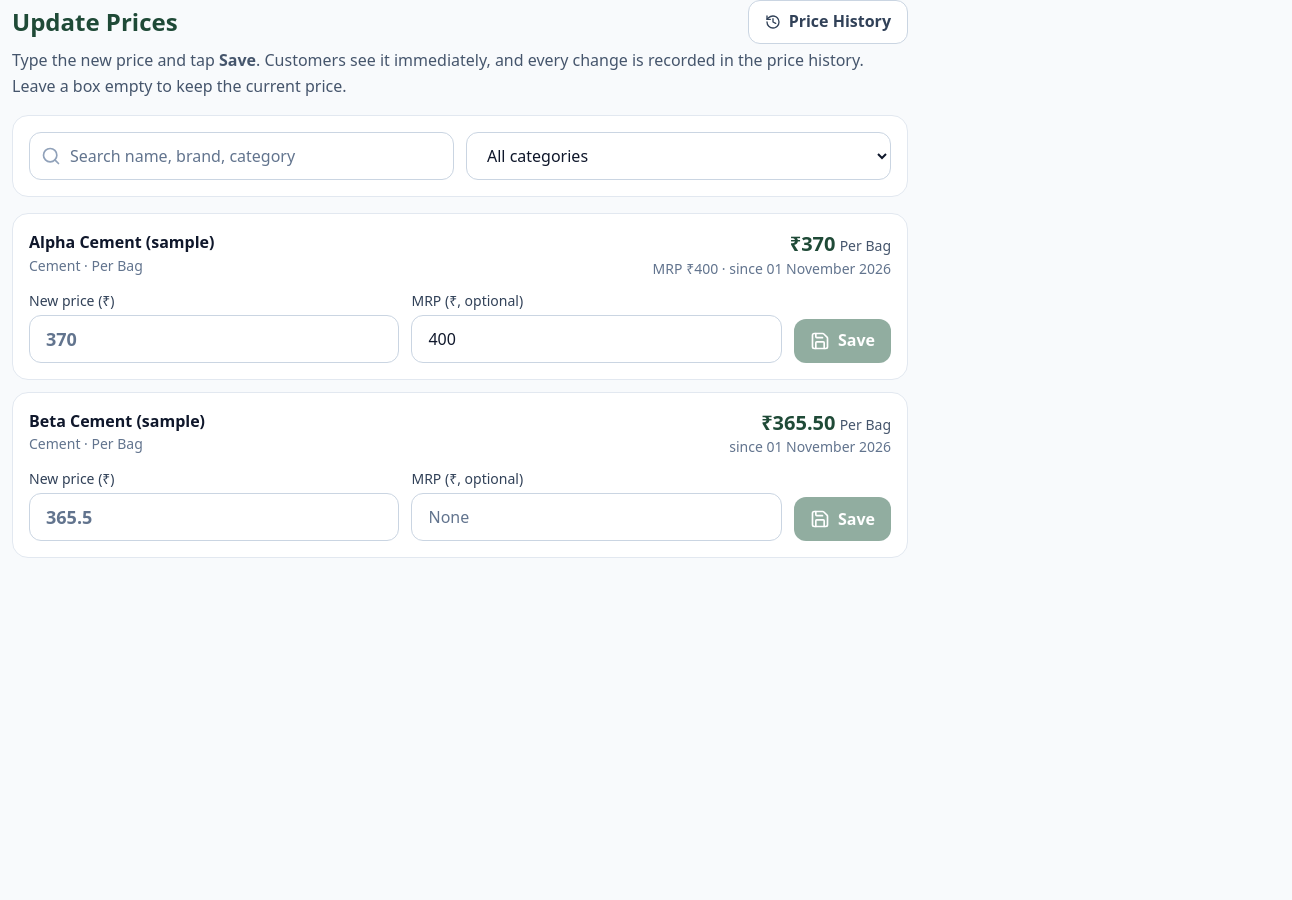
it: Update Prices page › saves a new price with the price that was on screen, and confirms
The width and height of the screenshot is (1292, 900).
Step 1. Type "380" into the field labelled "New price (₹)" below "Alpha Cement (sample)" → (214, 339), box [29,315,400,363]
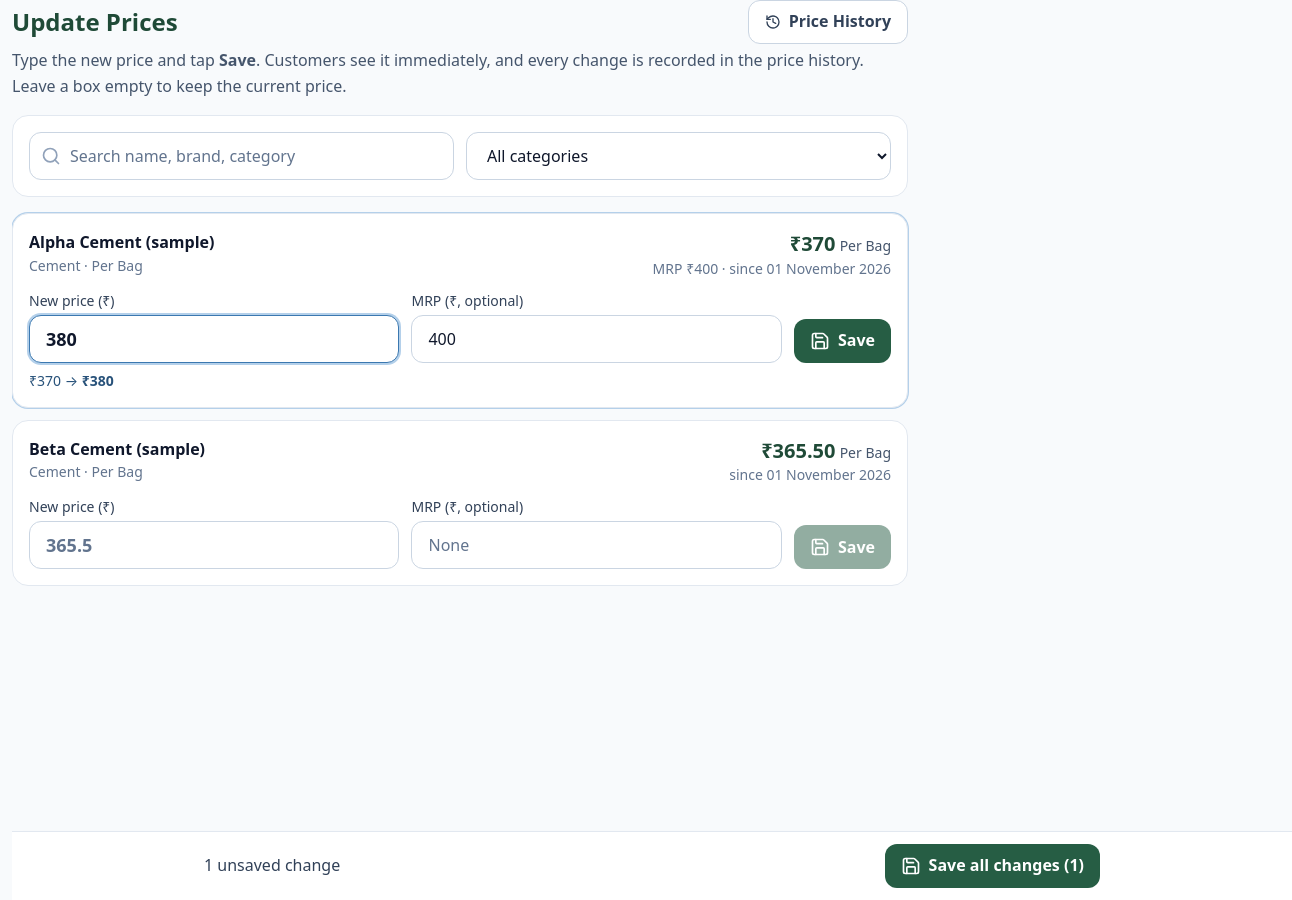
Expected: the text "₹370 → ₹380" is shown, [29,371,114,390]
Step 2. Click the button with aria-label "save price" → click(842, 341), box [794,319,891,363]
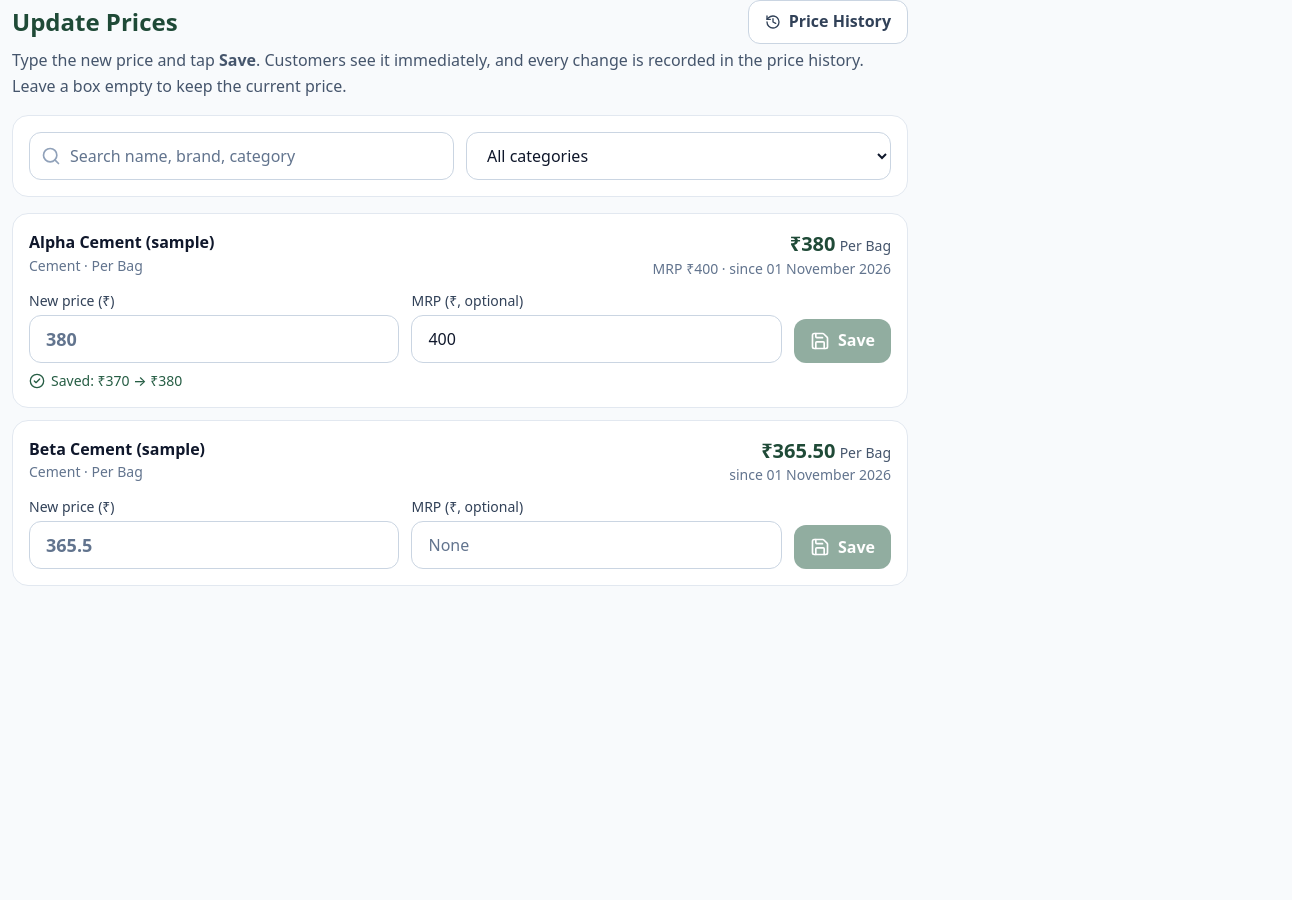
Expected: the text "Saved: ₹370 → ₹380" is shown, [29,371,182,390]
Expected: the text "₹380" is shown, [790,230,836,257]
Expected: the field labelled "New price (₹)" below "Alpha Cement (sample)" is empty, [29,315,400,363]
